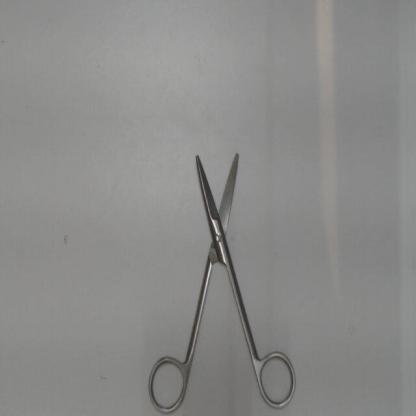Curved Mayo Scissors: (143, 147, 300, 415)
